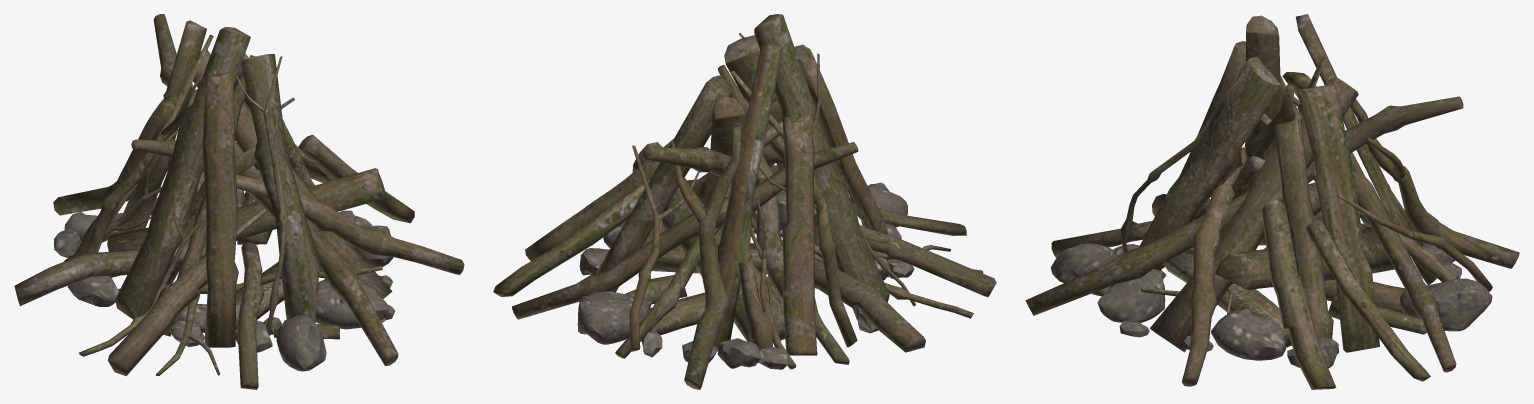
Rendered from FirePit.fbx.
3 views of the same model, side by side, from view 1: azimuth 30°, elevation 25°; view 2: azimuth 150°, elevation 25°; view 3: azimuth 270°, elevation 25° (orthographic).
Parts seen in each view (by area): view 1: SM_FirePit01.mo; view 2: SM_FirePit01.mo; view 3: SM_FirePit01.mo.
Part boxes in pixels (x1=…): SM_FirePit01.mo: x1=14, y1=14, x2=464, y2=389; SM_FirePit01.mo: x1=493, y1=14, x2=996, y2=389; SM_FirePit01.mo: x1=1025, y1=14, x2=1519, y2=389.
Bounding box in the file's own units: 151 × 101 × 161.
